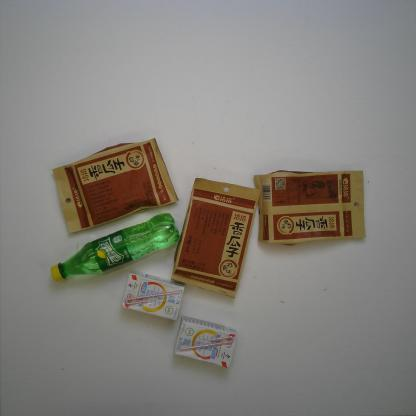Dried Food: (50, 135, 181, 240), (168, 175, 262, 300), (251, 168, 368, 248)
Drink: (49, 211, 185, 286)
Milk: (174, 315, 240, 370), (119, 269, 187, 322)
